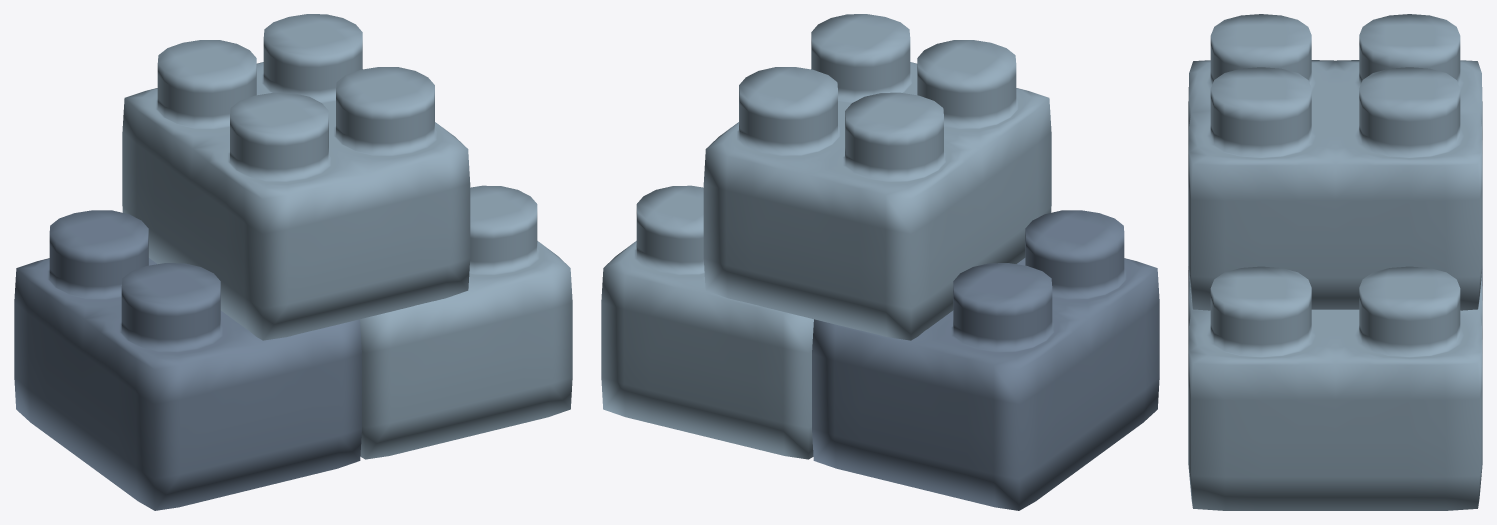
File: Legos.fbx
The picture shows the model from 3 angles, left to right: view 1: azimuth 30°, elevation 25°; view 2: azimuth 150°, elevation 25°; view 3: azimuth 270°, elevation 25°; orthographic projection. The views are drawn at different scales.
Visible parts, largest first — view 1: lego, Cube.016, Cube.014; view 2: lego, Cube.016, Cube.014; view 3: lego, Cube.014.
Boxes of the visible parts, x1=… form: lego: x1=122, y1=14, x2=470, y2=340; Cube.016: x1=14, y1=210, x2=361, y2=510; Cube.014: x1=360, y1=185, x2=572, y2=459; lego: x1=703, y1=14, x2=1051, y2=340; Cube.016: x1=812, y1=210, x2=1159, y2=510; Cube.014: x1=601, y1=185, x2=813, y2=459; lego: x1=1188, y1=14, x2=1482, y2=310; Cube.014: x1=1188, y1=266, x2=1482, y2=510.
Bounding box in the file's own units: 0.0549 × 0.0322 × 0.0421.
